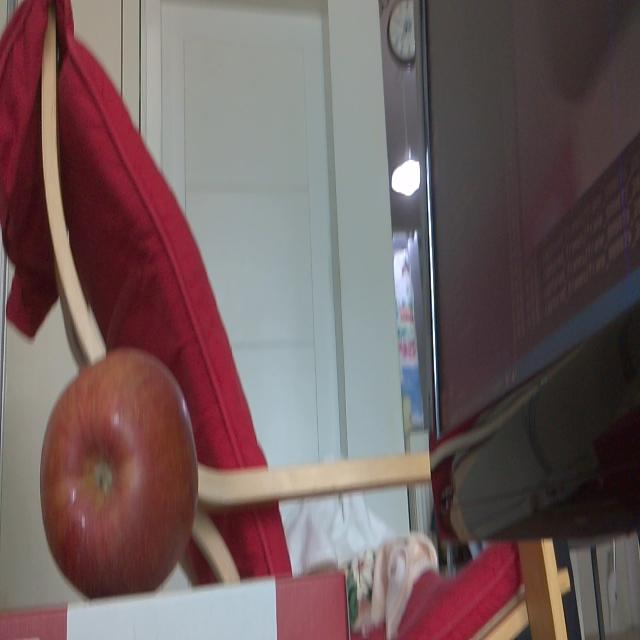apple: (36, 342, 200, 596)
